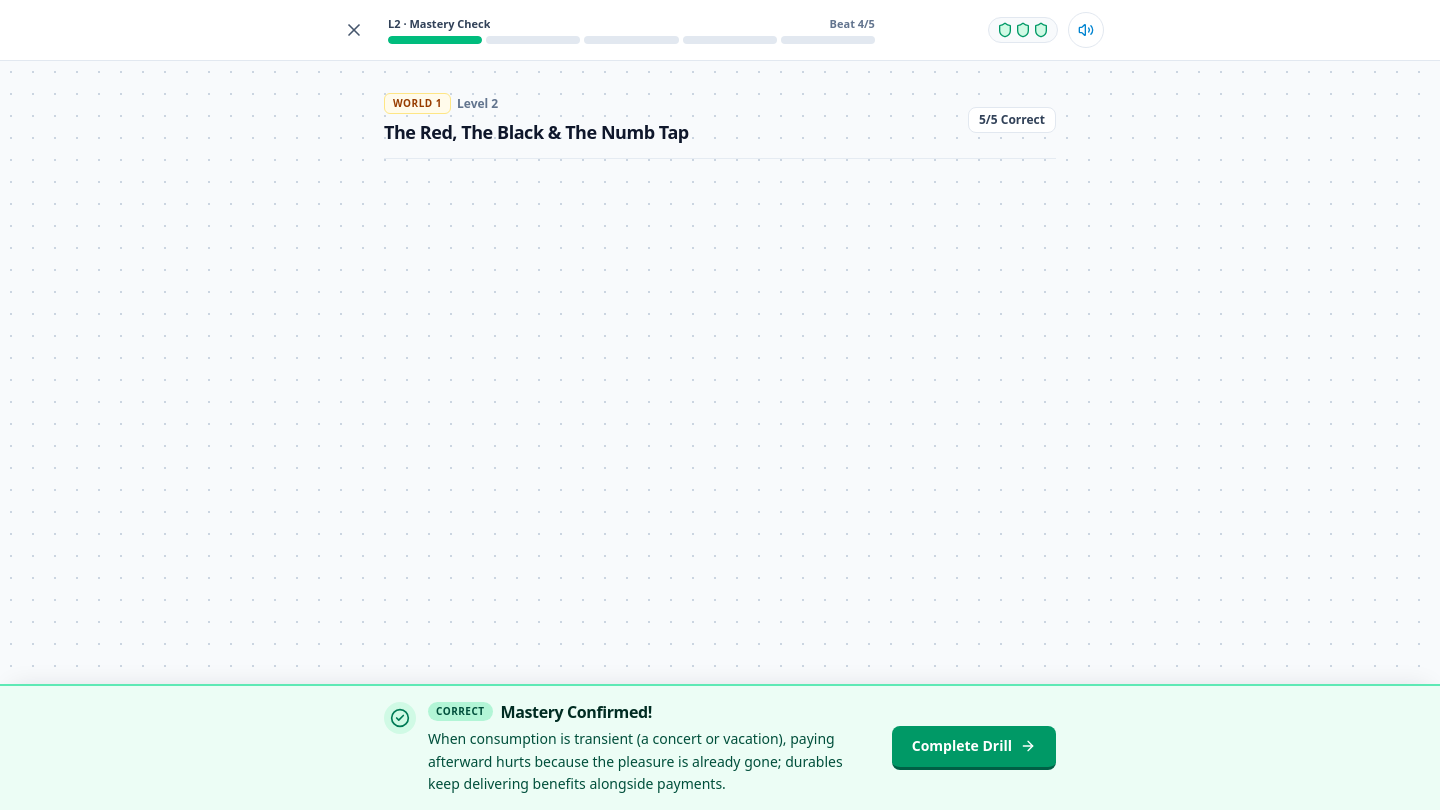
Phase 5C: Full 5-Beat Arena, Domain Integration, Persistence & Navigation › completes all 5 beats of Level 2 with real engine XP, badge, belt rank-up, and streak
Earlier steps of the test are not shown.
Click the button "Complete Drill": (974, 748) [892,726,1056,770]
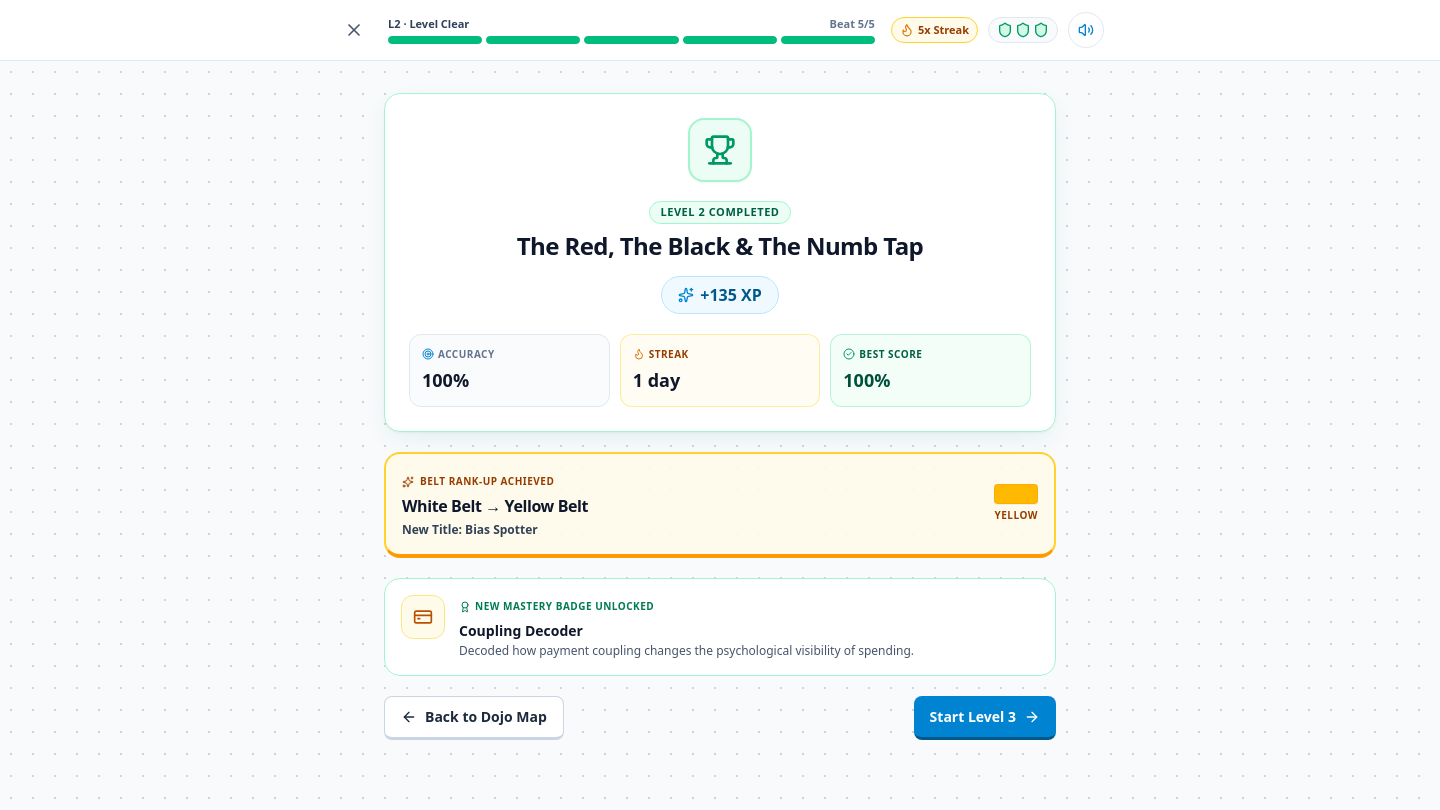
Expected: the text "+135 XP" is shown, [700,282,762,306]
Expected: the heading "Coupling Decoder" is shown, [459,620,583,640]
Expected: the text "White Belt → Yellow Belt" is shown, [402,494,588,518]
